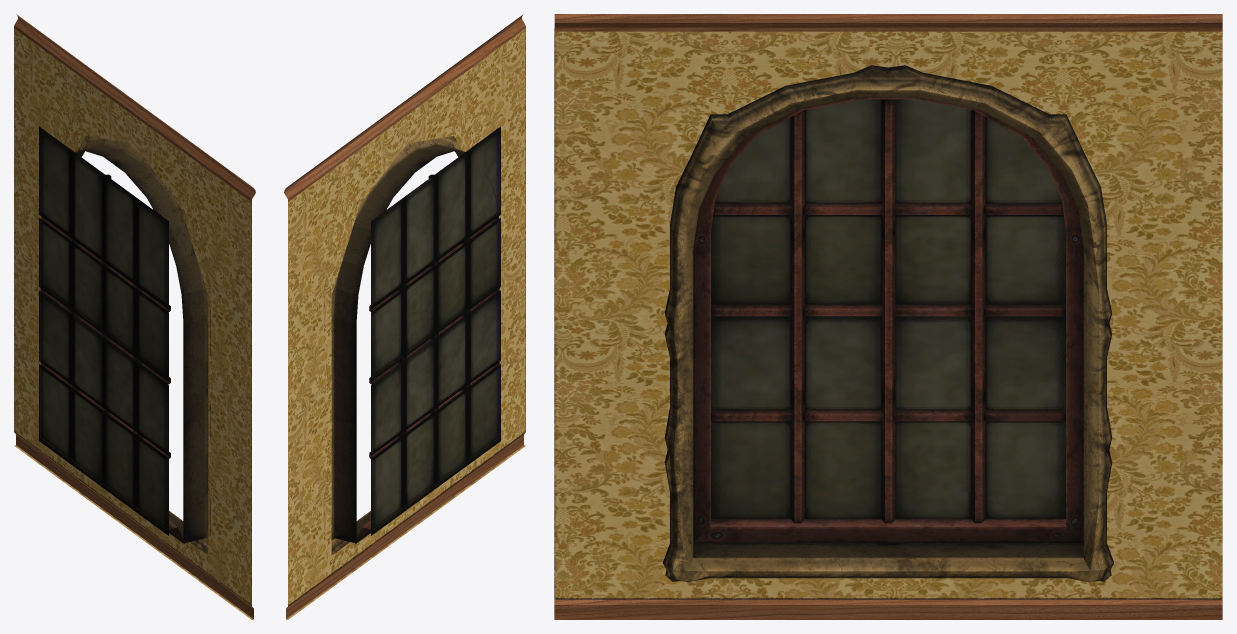
The model's file is gold1_big_window.dae.
3 views of the same model, side by side, from view 1: azimuth 30°, elevation 25°; view 2: azimuth 150°, elevation 25°; view 3: azimuth 270°, elevation 25° (orthographic). The views are drawn at different scales.
Parts seen in each view (by area): view 1: Plane_004, window02_large_glass_, window02_large_frame3; view 2: Plane_004, window02_large_glass_, window02_large_frame3; view 3: Plane_004, window02_large_glass_, window02_large_frame3.
Boxes of the visible parts, x1,y1,x2,y2 form: Plane_004: (14, 14, 255, 619); window02_large_glass_: (39, 126, 168, 535); window02_large_frame3: (40, 128, 212, 561); Plane_004: (284, 14, 525, 619); window02_large_glass_: (371, 126, 500, 535); window02_large_frame3: (326, 136, 499, 561); Plane_004: (554, 14, 1222, 619); window02_large_glass_: (711, 99, 1065, 519); window02_large_frame3: (663, 65, 1113, 582).
Size of the model in its own units: 0.4034 by 4 by 4.
